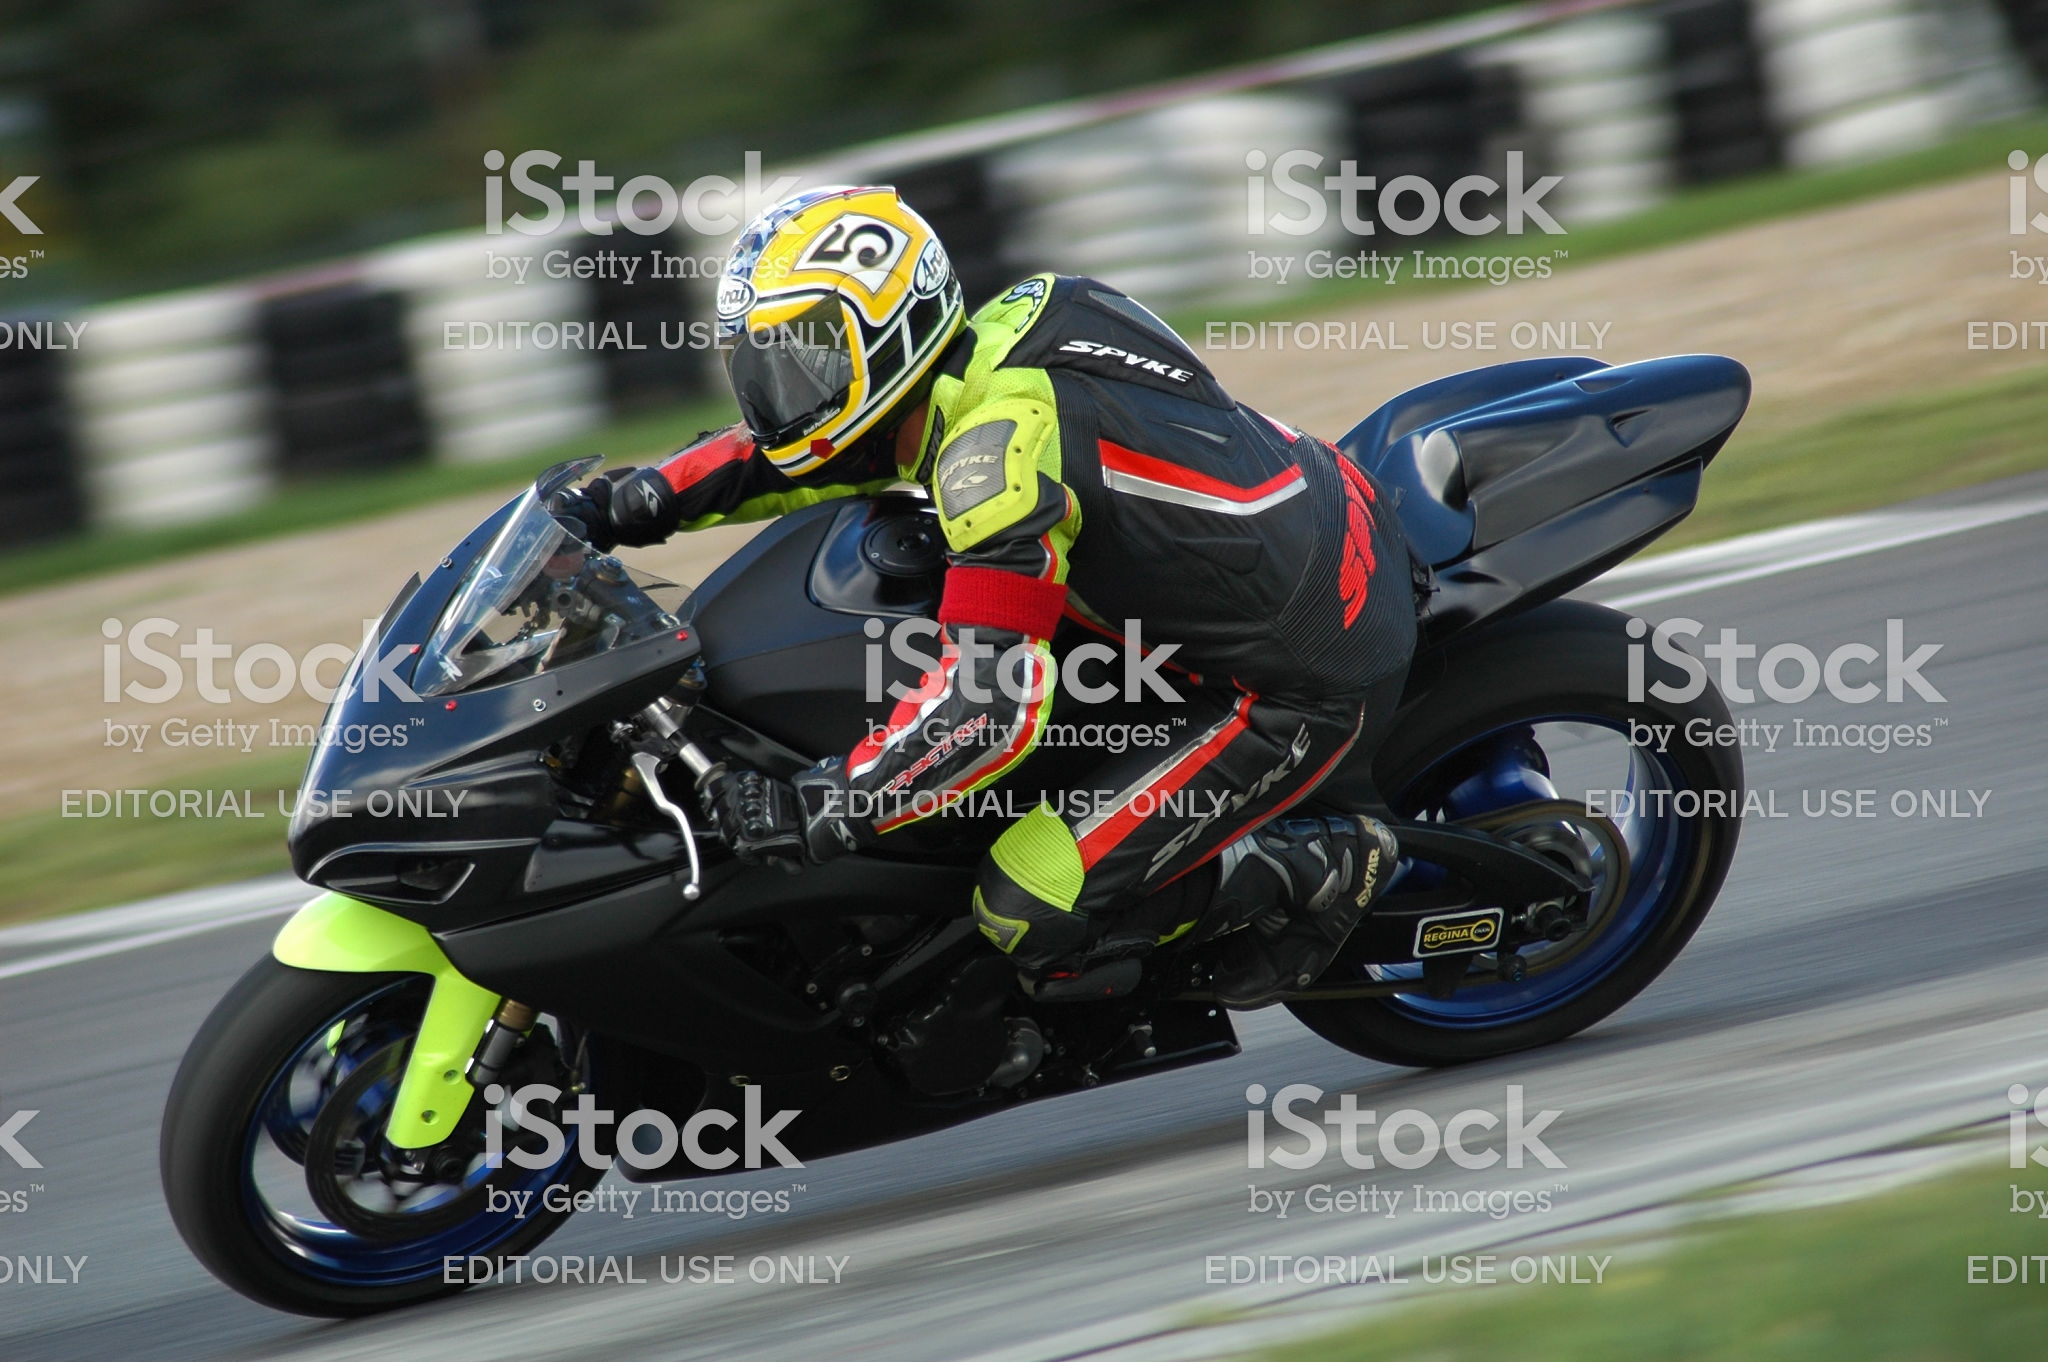helmet: (706, 190, 981, 410)
